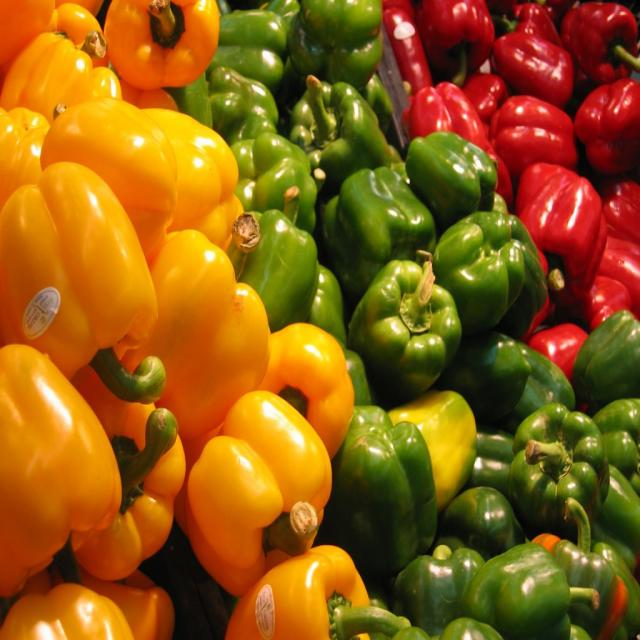Bell pepper: (0, 156, 166, 426), (0, 344, 171, 578), (185, 392, 340, 582), (142, 235, 276, 432), (332, 403, 456, 575), (248, 295, 370, 468), (325, 137, 440, 298), (349, 250, 461, 397), (501, 154, 609, 304), (221, 207, 335, 335), (471, 538, 611, 640), (507, 392, 608, 526), (95, 0, 221, 102), (442, 203, 540, 327), (287, 68, 393, 180), (414, 0, 504, 105), (485, 3, 570, 112), (551, 3, 639, 108), (575, 293, 640, 422), (202, 10, 292, 97), (290, 0, 385, 77)
